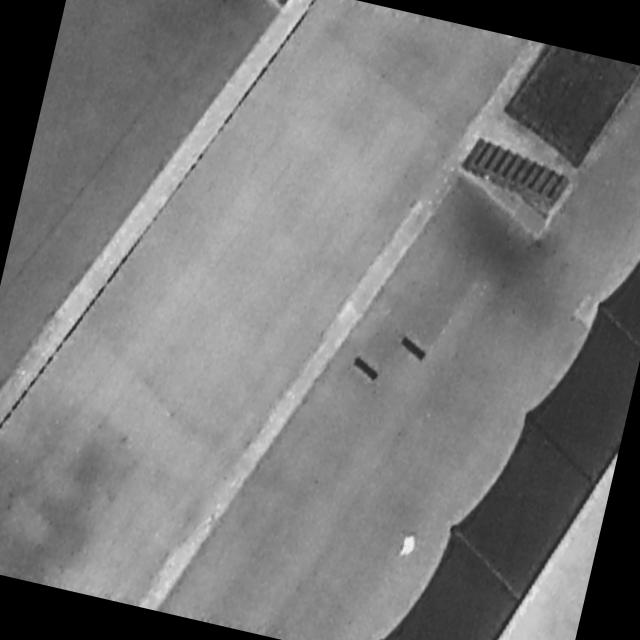person: (395, 526, 422, 565)
